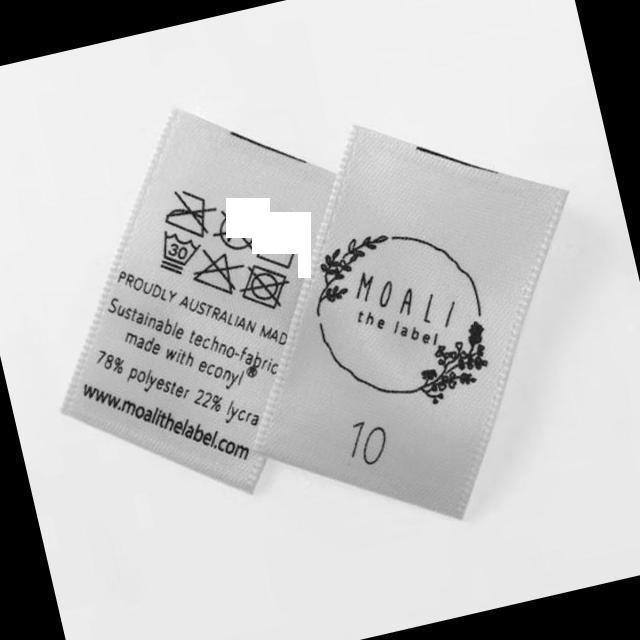30C: (150, 221, 208, 281)
DN_bleach: (184, 238, 251, 306)
DN_iron: (156, 178, 226, 248)
DN_tumble_dry: (231, 254, 297, 318)
